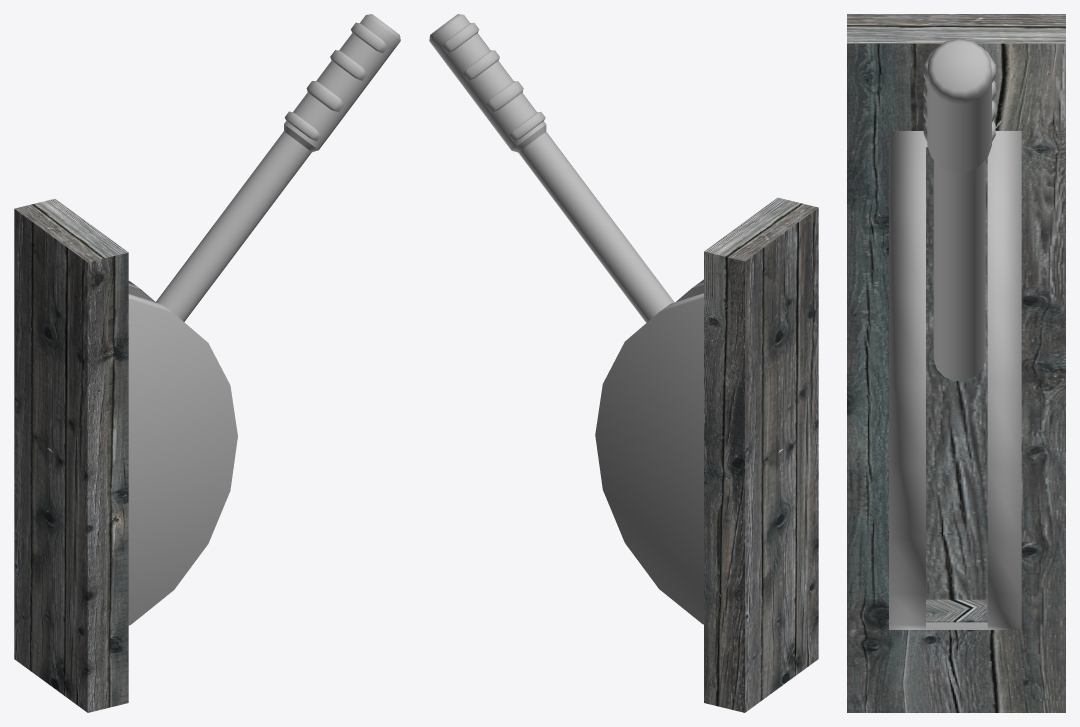
Rendered from lever.fbx.
3 views of the same model, side by side, from view 1: azimuth 30°, elevation 25°; view 2: azimuth 150°, elevation 25°; view 3: azimuth 270°, elevation 25° (orthographic). The views are drawn at different scales.
Visible parts, largest first — view 1: pCube1, pCylinder1, pCylinder2; view 2: pCube1, pCylinder1, pCylinder2; view 3: pCube1, pCylinder1, pCylinder2.
Boxes of the visible parts, <box> form: pCube1: <box>14,199,128,712</box>; pCylinder1: <box>128,281,237,625</box>; pCylinder2: <box>47,14,400,452</box>; pCube1: <box>704,197,818,712</box>; pCylinder1: <box>595,279,703,624</box>; pCylinder2: <box>429,14,782,452</box>; pCube1: <box>847,14,1065,712</box>; pCylinder1: <box>889,131,1021,629</box>; pCylinder2: <box>923,38,995,380</box>.
Size of the model in its own units: 5.75 by 9.33 by 2.11.
